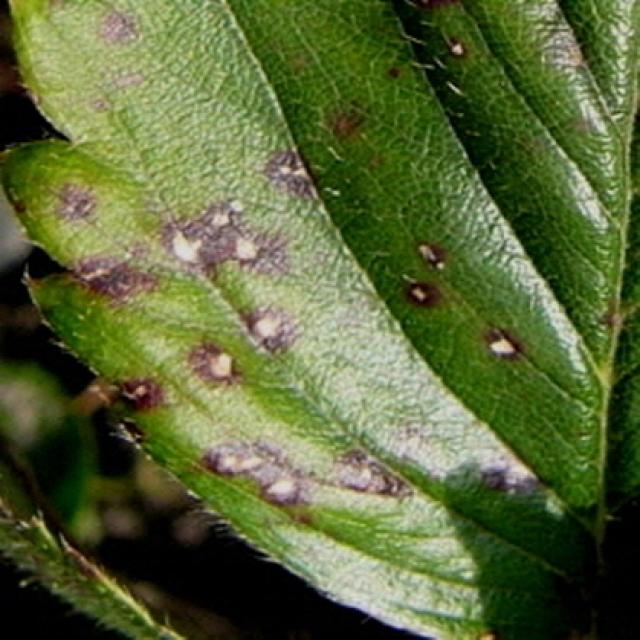Leaf Spot: (0, 0, 638, 638)
